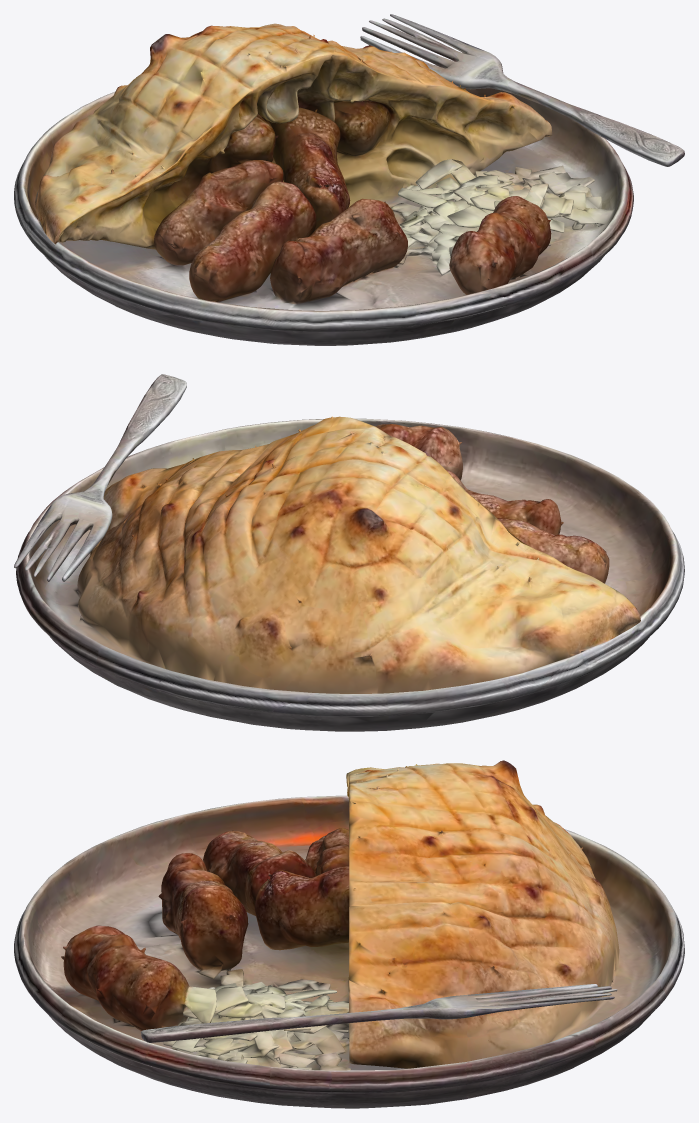
The model's file is cevapi.glb.
3 renders of one model, top to bottom at view 1: azimuth 30°, elevation 25°; view 2: azimuth 150°, elevation 25°; view 3: azimuth 270°, elevation 25°, orthographic. The views are drawn at different scales.
Visible parts, largest first — view 1: tripo_node_bd6f052d-642f-4c70-a949-6eb2c97e7733; view 2: tripo_node_bd6f052d-642f-4c70-a949-6eb2c97e7733; view 3: tripo_node_bd6f052d-642f-4c70-a949-6eb2c97e7733.
Boxes of the visible parts, bbox=[...] form: tripo_node_bd6f052d-642f-4c70-a949-6eb2c97e7733: bbox=[14, 14, 684, 345]; tripo_node_bd6f052d-642f-4c70-a949-6eb2c97e7733: bbox=[14, 374, 684, 731]; tripo_node_bd6f052d-642f-4c70-a949-6eb2c97e7733: bbox=[14, 760, 684, 1108].
Bounding box in the file's own units: 0.3398 × 0.1093 × 0.3386.
1 material, 1 textured.
